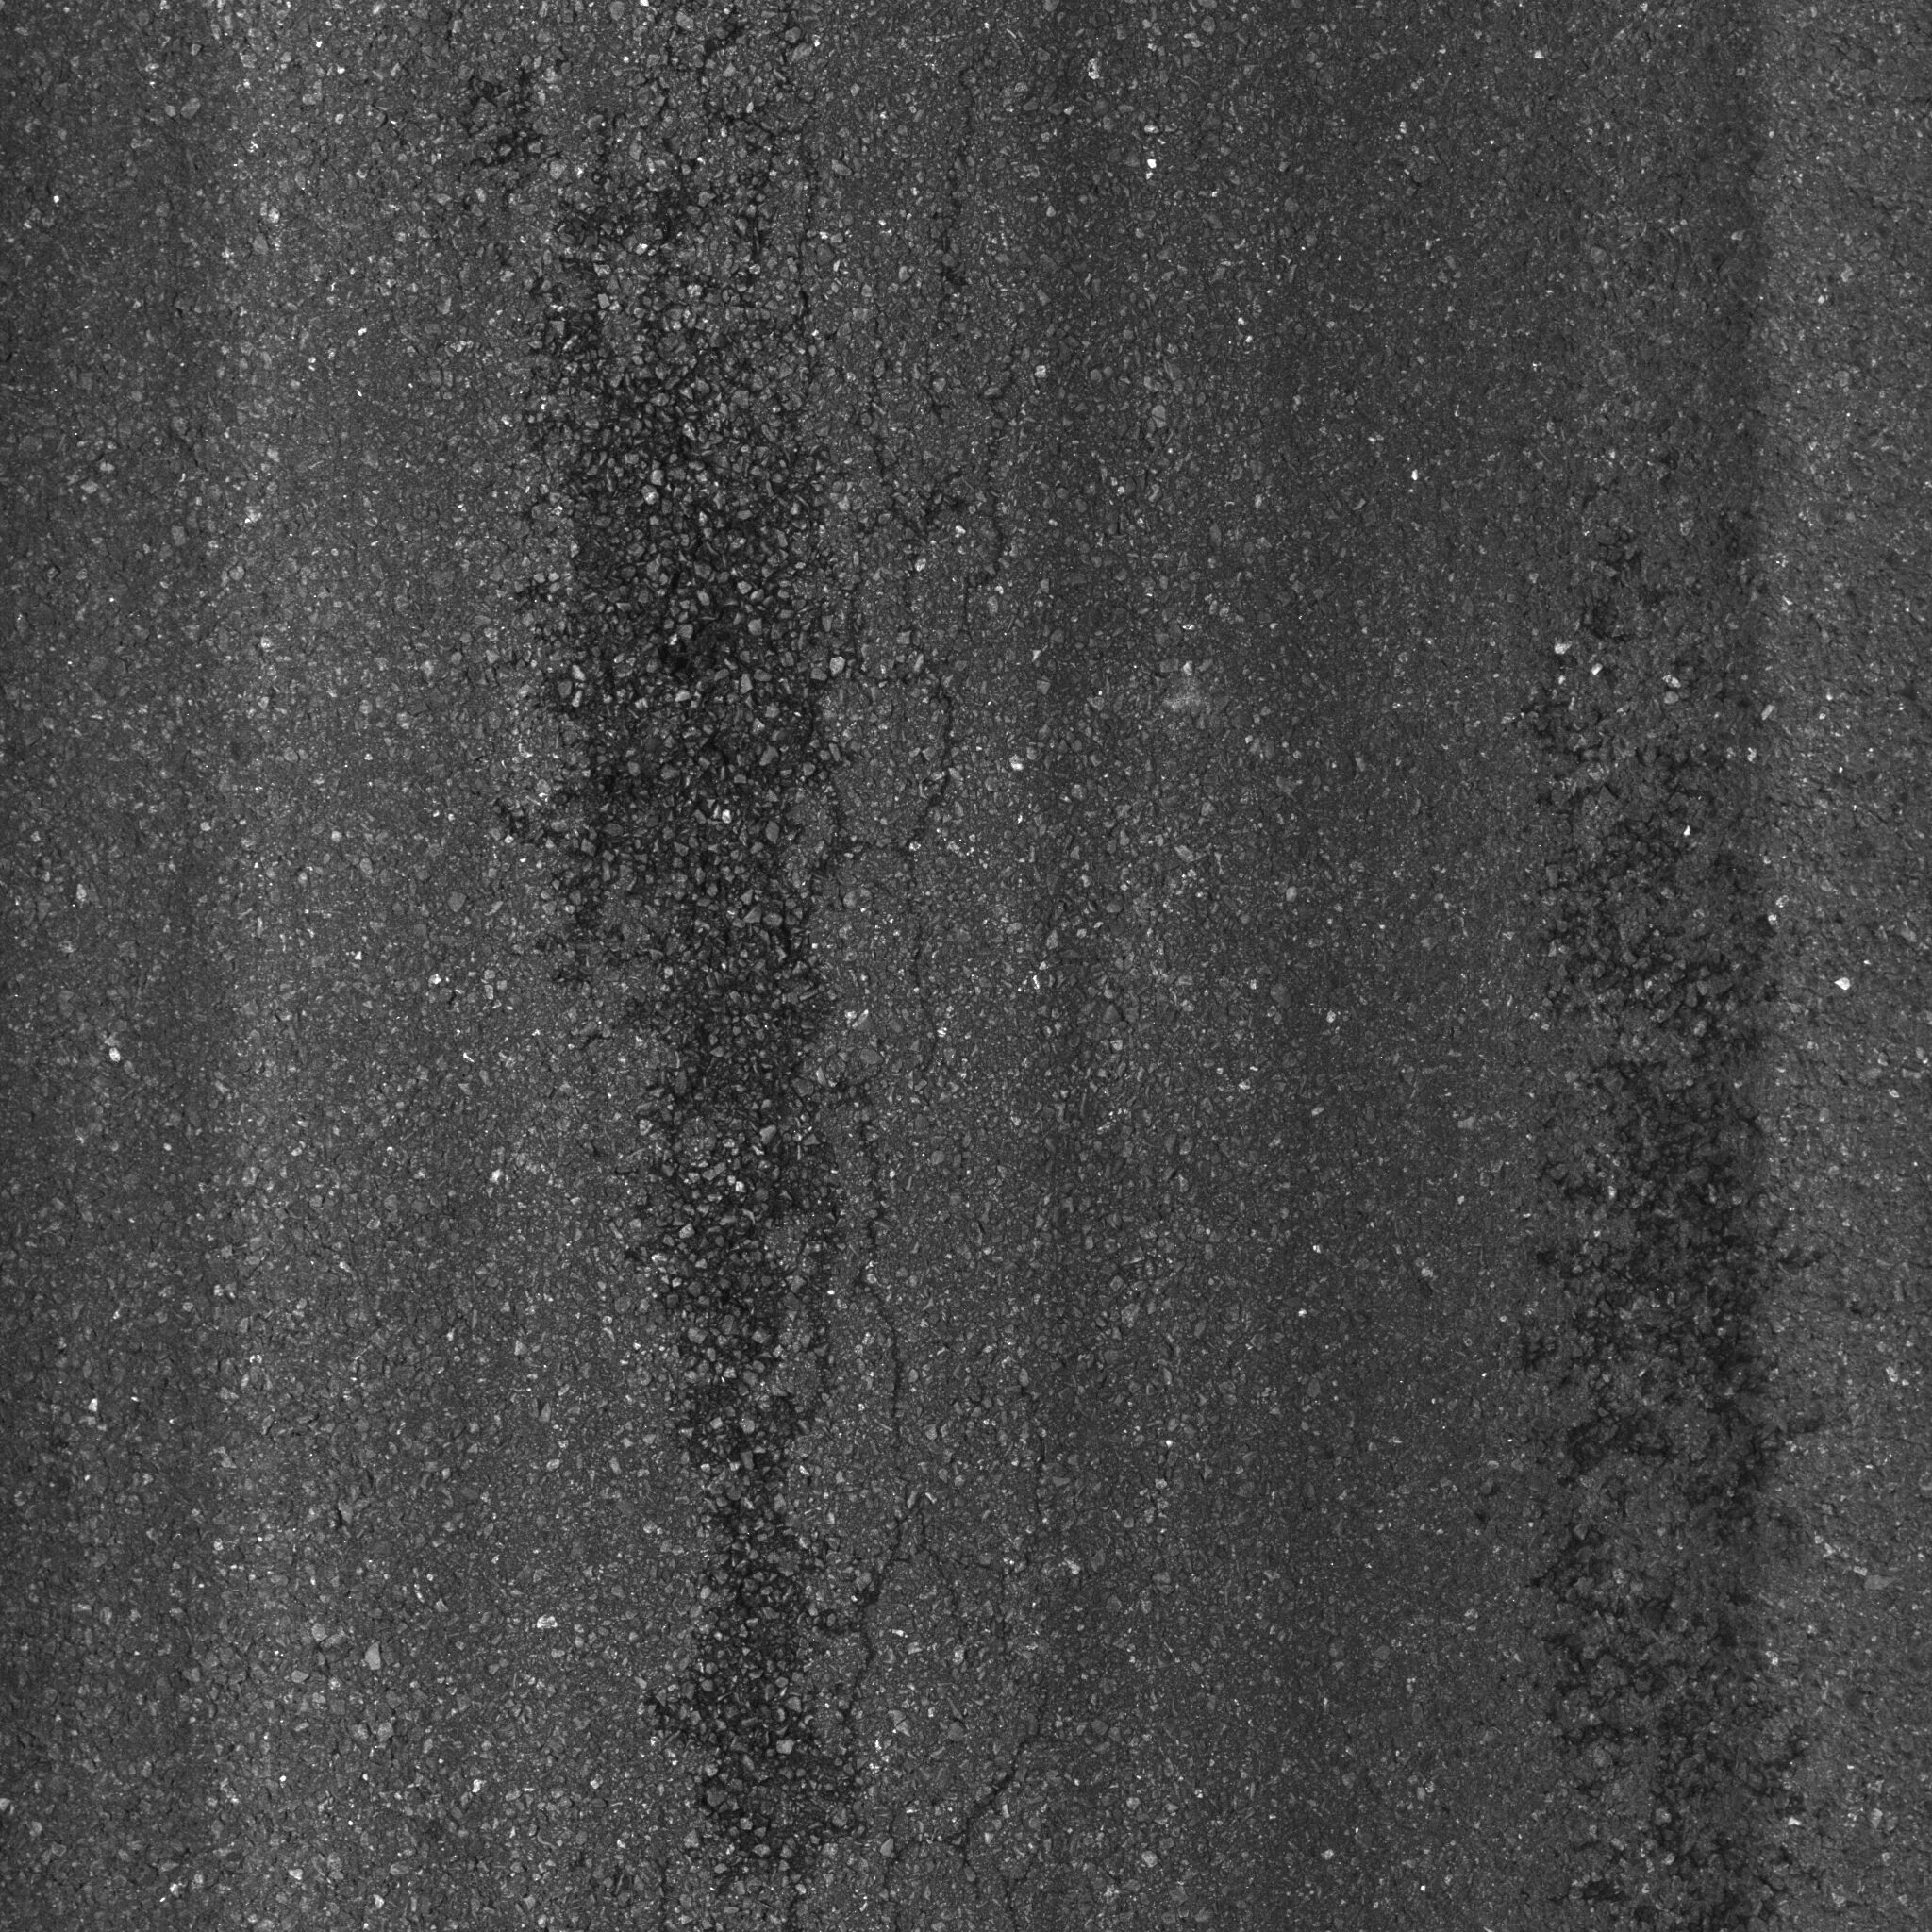alligator: (444, 44, 1100, 1900)
